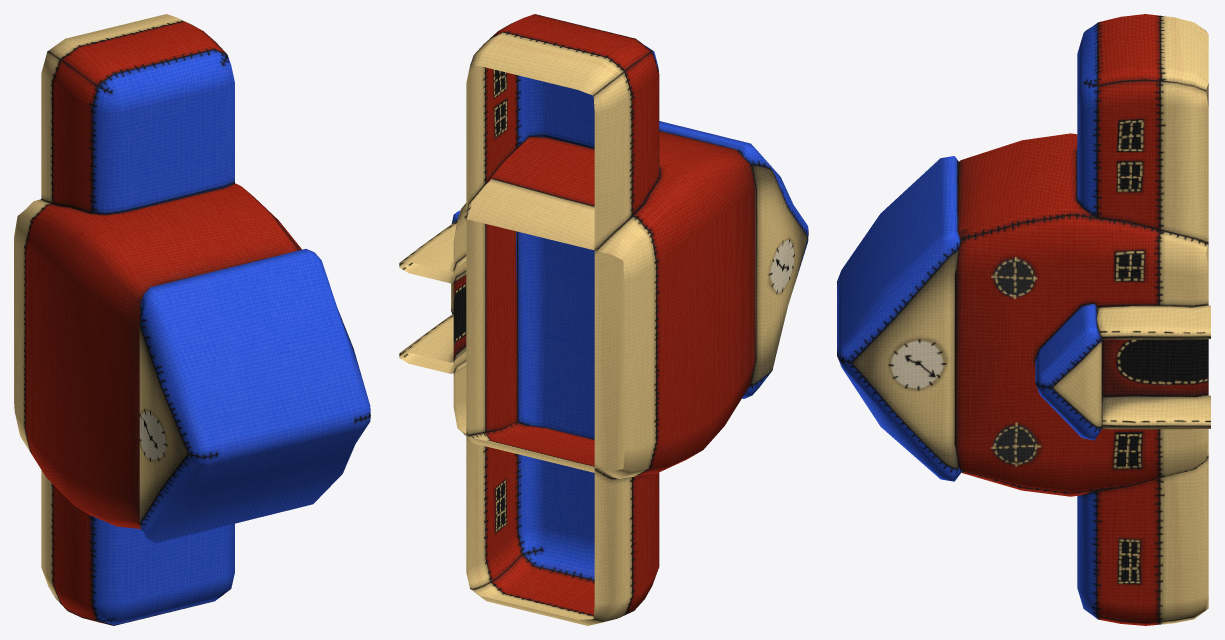
Rendered from station_building.fbx.
3 views of the same model, side by side, from view 1: azimuth 30°, elevation 25°; view 2: azimuth 150°, elevation 25°; view 3: azimuth 270°, elevation 25° (orthographic).
Visible parts, largest first — view 1: pCube8; view 2: pCube8; view 3: pCube8.
Boxes of the visible parts, box(x1,y1,x2,y2) form: pCube8: box(14, 14, 370, 625); pCube8: box(399, 14, 808, 625); pCube8: box(837, 14, 1210, 625).
Bounding box in the file's own units: 840 × 1804 × 1090.
